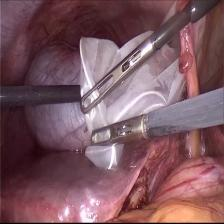Grasper: (74, 36, 158, 120), (89, 109, 148, 150)
Specimen Bag: (78, 31, 198, 171)
